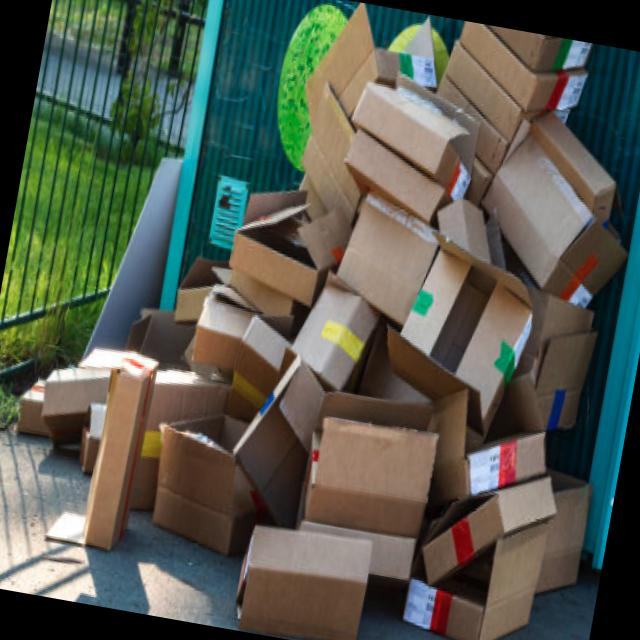Kardus: (71, 0, 640, 640)
